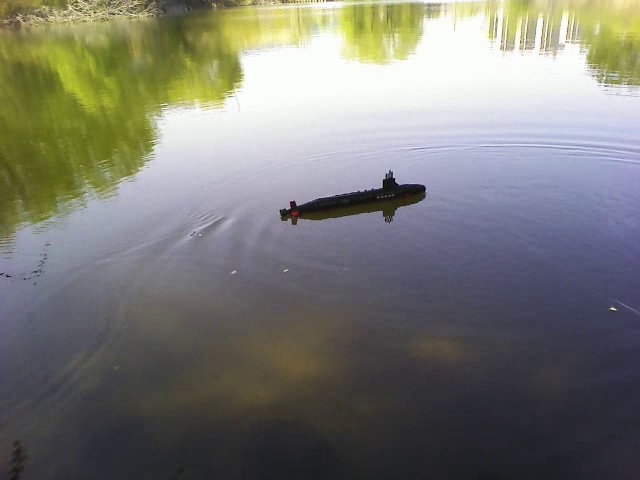submarine: (277, 170, 428, 219)
